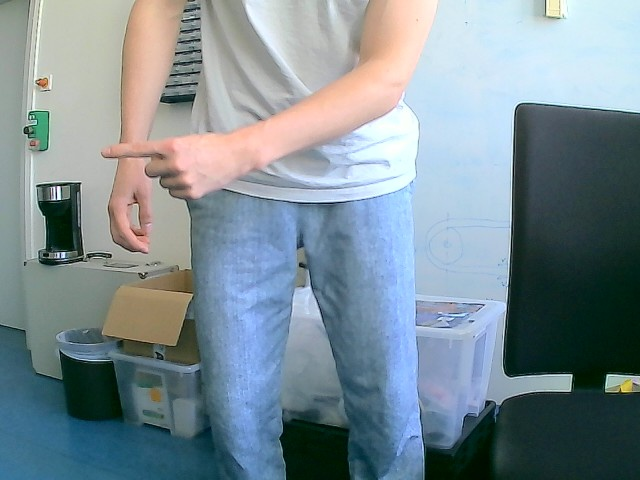no_gesture: (107, 141, 152, 257)
right: (98, 130, 238, 201)
